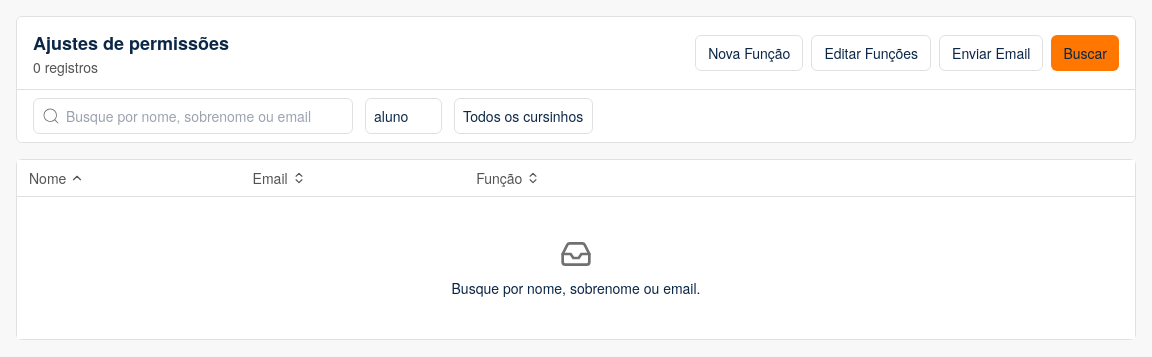
Test case: DashRoles no DashListTemplate (usuários 03) › filtro por cursinho (usuários 06) › ⚠️ escolher o cursinho já busca, mesmo sem nome — e mostra a coluna Ativo
The image size is (1152, 357).
Select "Alfa Cursinho" in the dropdown named "Cursinho": [524, 116] box [454,98,593,134]
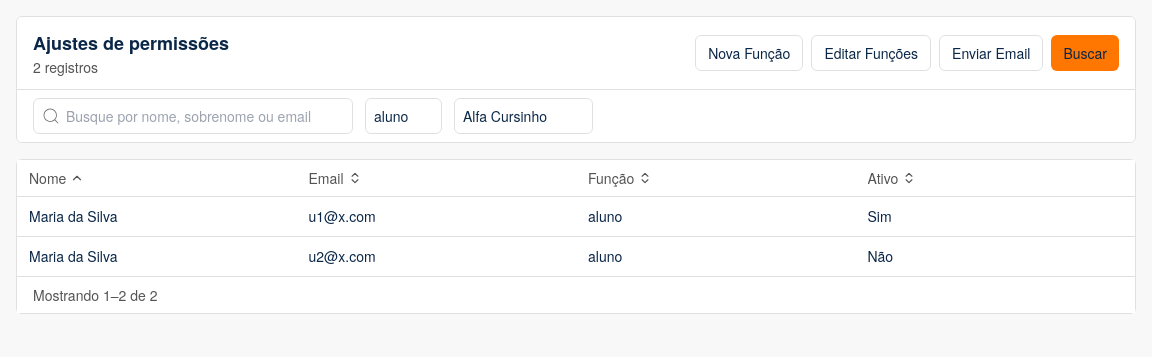
Expected: the text "u2@x.com" is shown, [308,246,376,266]
Expected: the text "Ativo" is shown, [868,168,898,188]
Expected: the text "Sim" is shown, [868,206,892,226]
